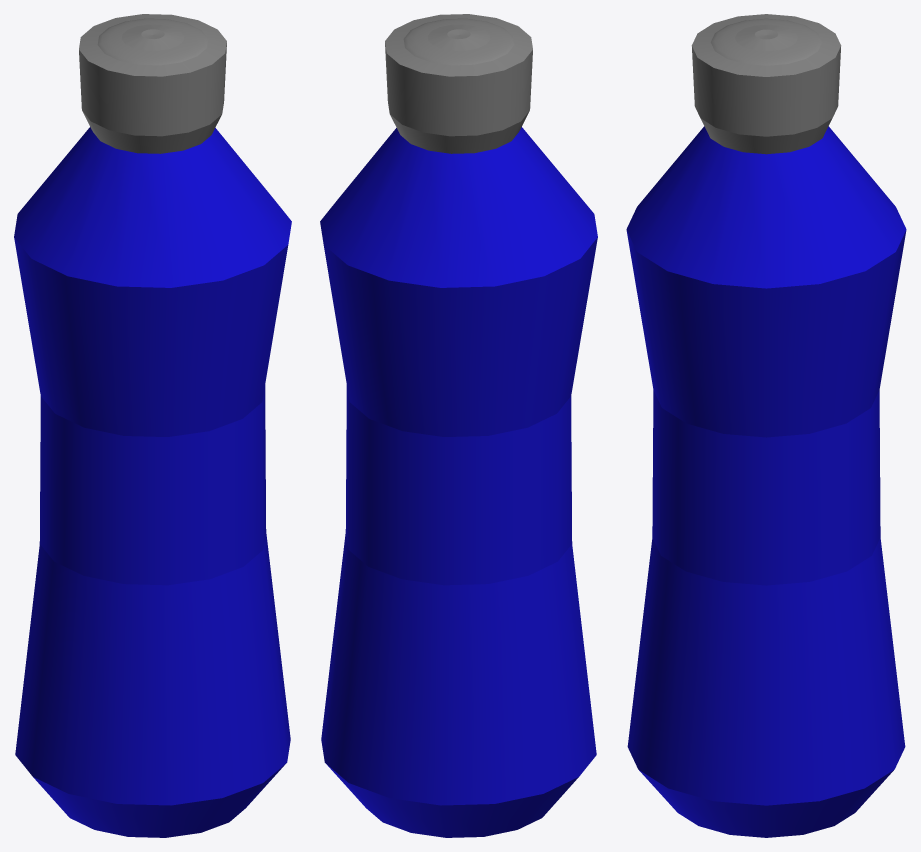
The model's file is Water Bottle prefab.fbx.
3 views of the same model, side by side, from view 1: azimuth 30°, elevation 25°; view 2: azimuth 150°, elevation 25°; view 3: azimuth 270°, elevation 25° (orthographic).
Visible parts, largest first — view 1: Line001; view 2: Line001; view 3: Line001.
Part boxes in pixels (x1,y1,x2,y2): Line001: (14,14,291,837); Line001: (320,14,597,837); Line001: (626,14,906,837).
Size of the model in its own units: 141 by 430 by 141.
